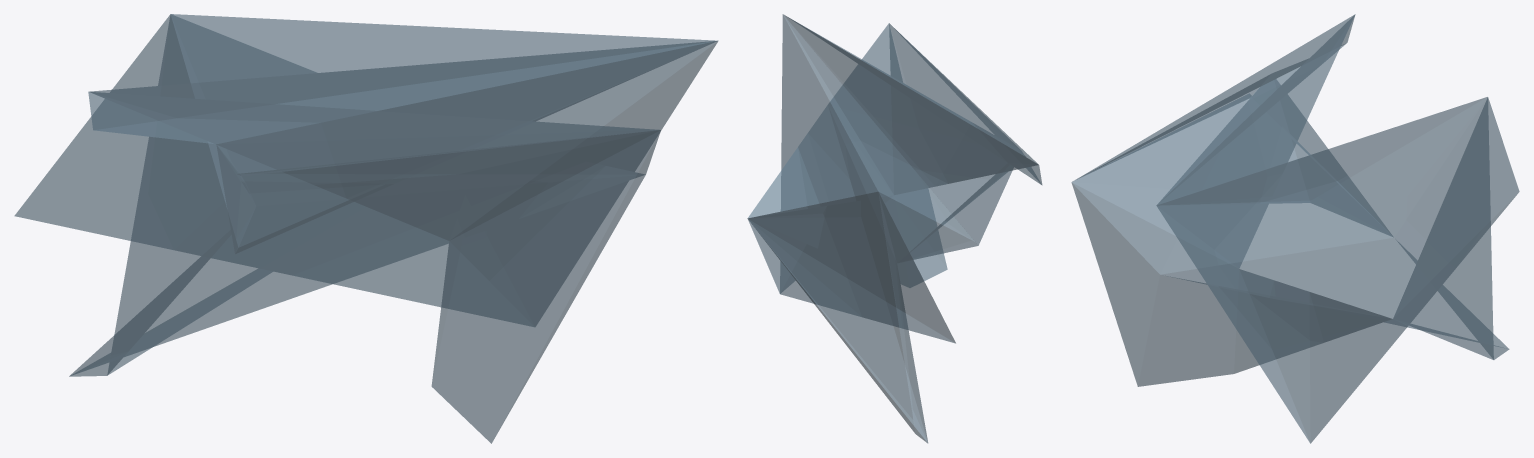
The model's file is particle4.dae.
3 renders of one model, left to right at view 1: azimuth 30°, elevation 25°; view 2: azimuth 150°, elevation 25°; view 3: azimuth 270°, elevation 25°, orthographic. The views are drawn at different scales.
Visible parts, largest first — view 1: Platonic.3; view 2: Platonic.3; view 3: Platonic.3.
Part boxes in pixels (<box>): Platonic.3: <box>14,14,718,443</box>; Platonic.3: <box>747,14,1042,443</box>; Platonic.3: <box>1071,14,1519,443</box>.
Size of the model in its own units: 4348 by 3158 by 4031.
